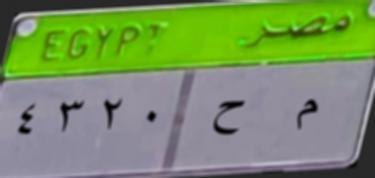0: (137, 105, 161, 130)
2: (99, 93, 126, 132)
3: (53, 94, 86, 138)
4: (16, 100, 38, 138)
7aa: (210, 93, 246, 142)
meem: (286, 85, 320, 137)
